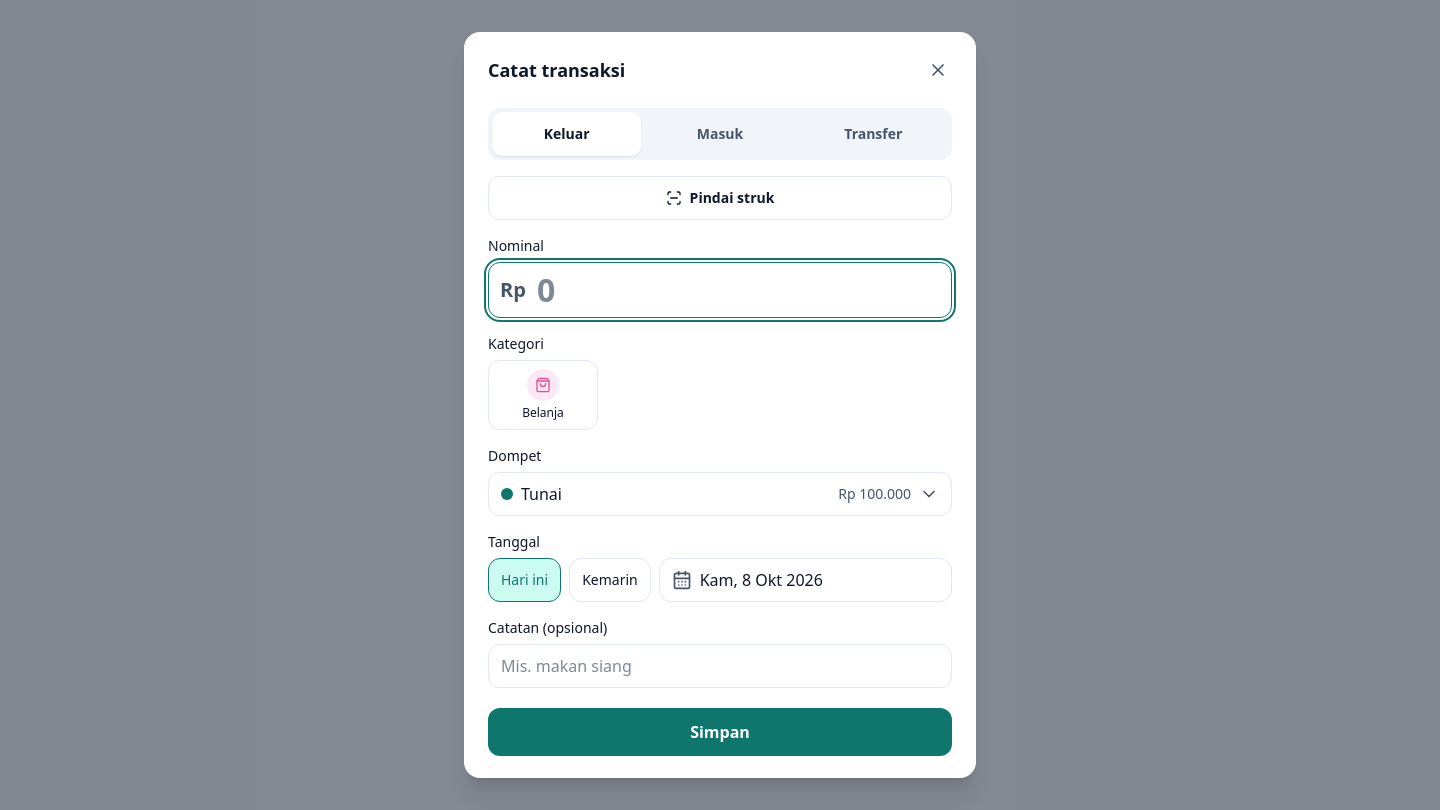
Test: Pindai struk di form transaksi › hanya untuk pengeluaran
The image size is (1440, 810).
Expected: the button "Pindai struk" is shown, [488,176,952,220]
Click the radio button labelled "Masuk". click: (720, 134)
box: [697,124,743,143]
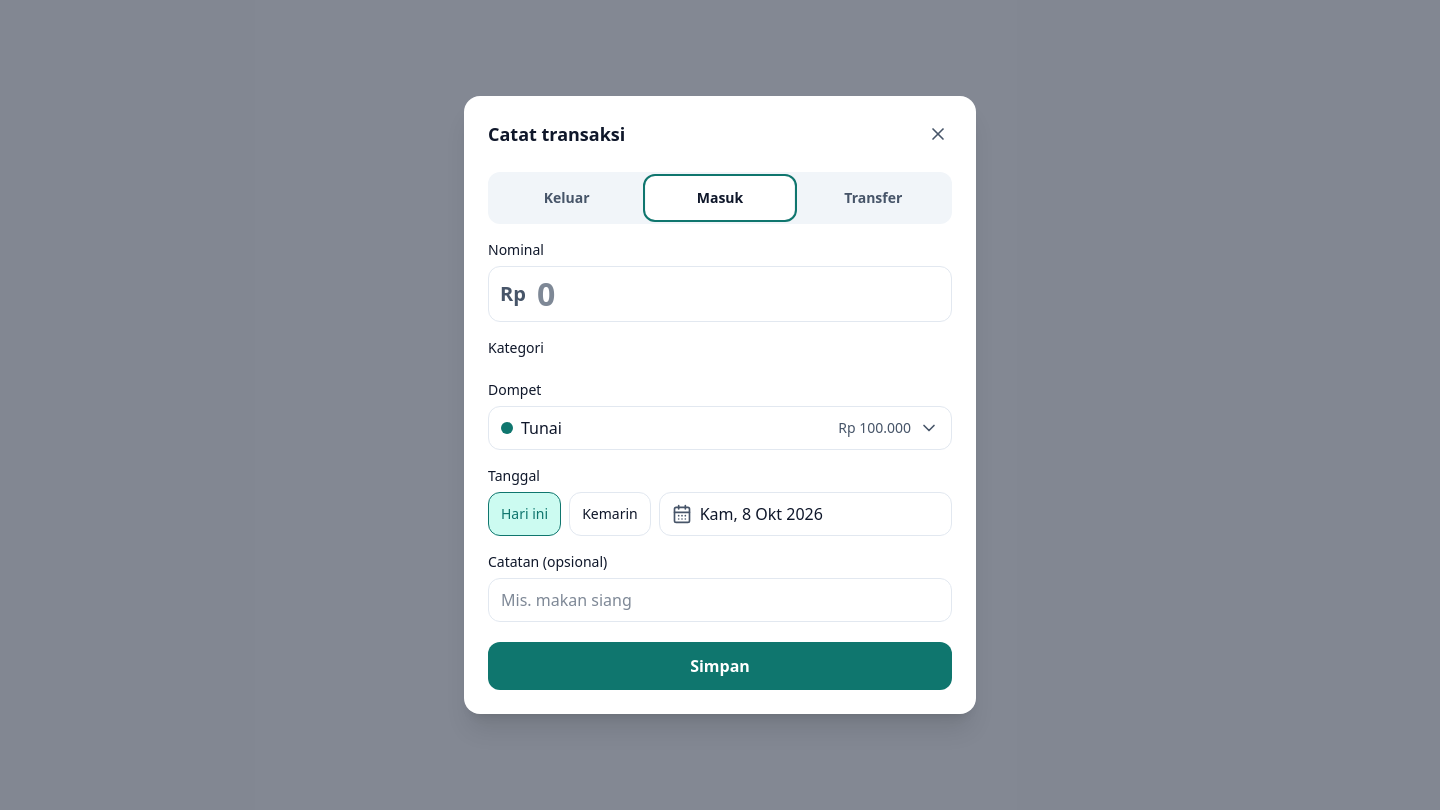
Now the button "Pindai struk" is gone
